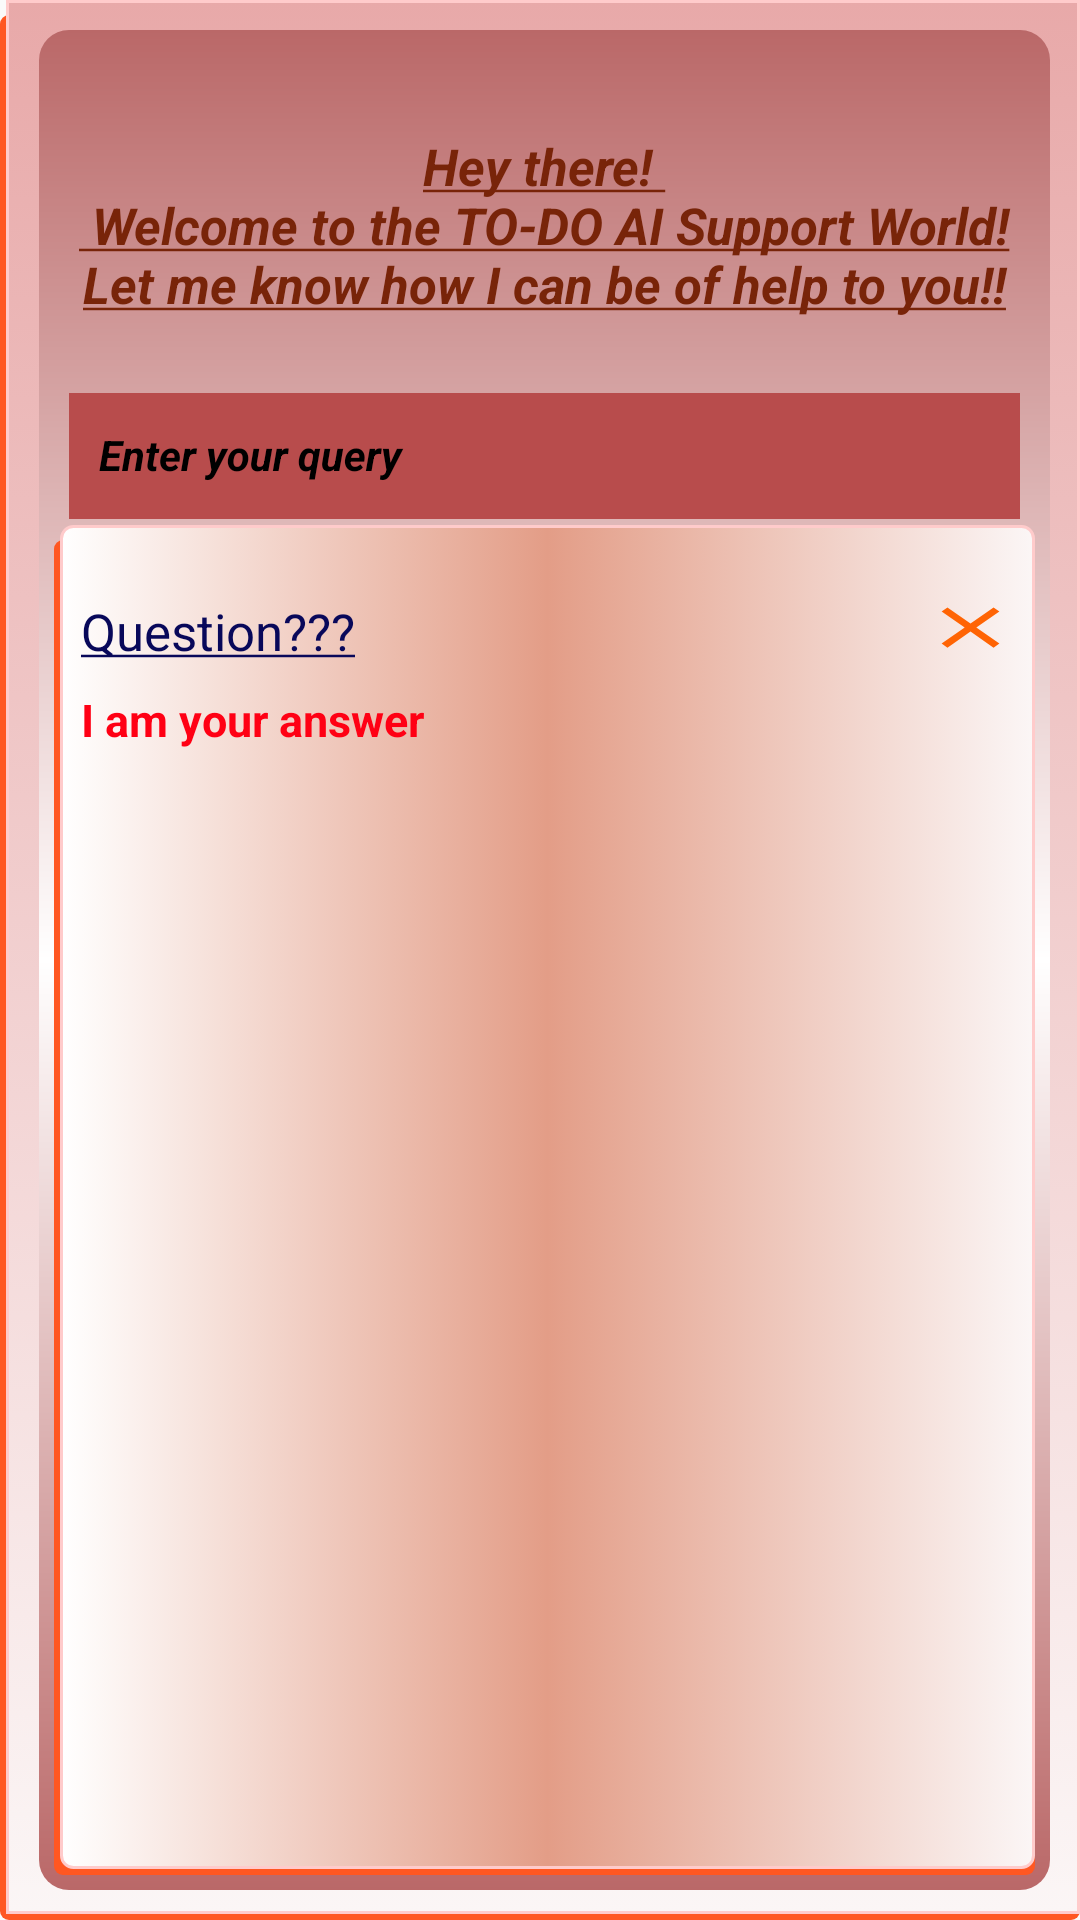

Icon click points for this 1080px x 1920px phone screenshot, format [x,y]:
clear: [960,627]
